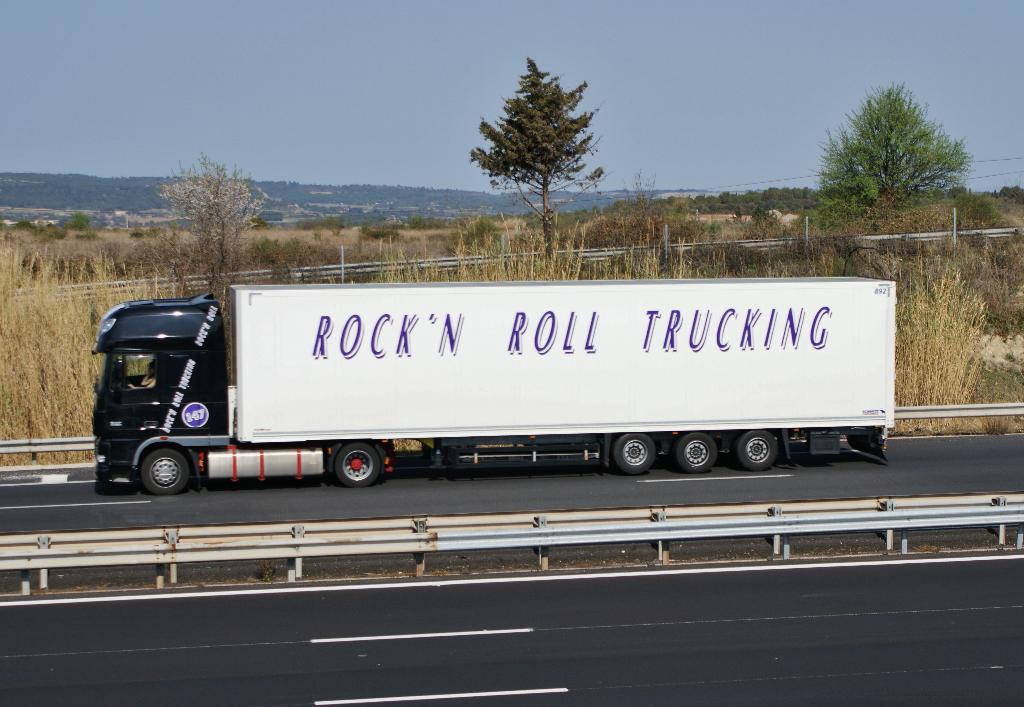truck: (55, 252, 914, 502)
